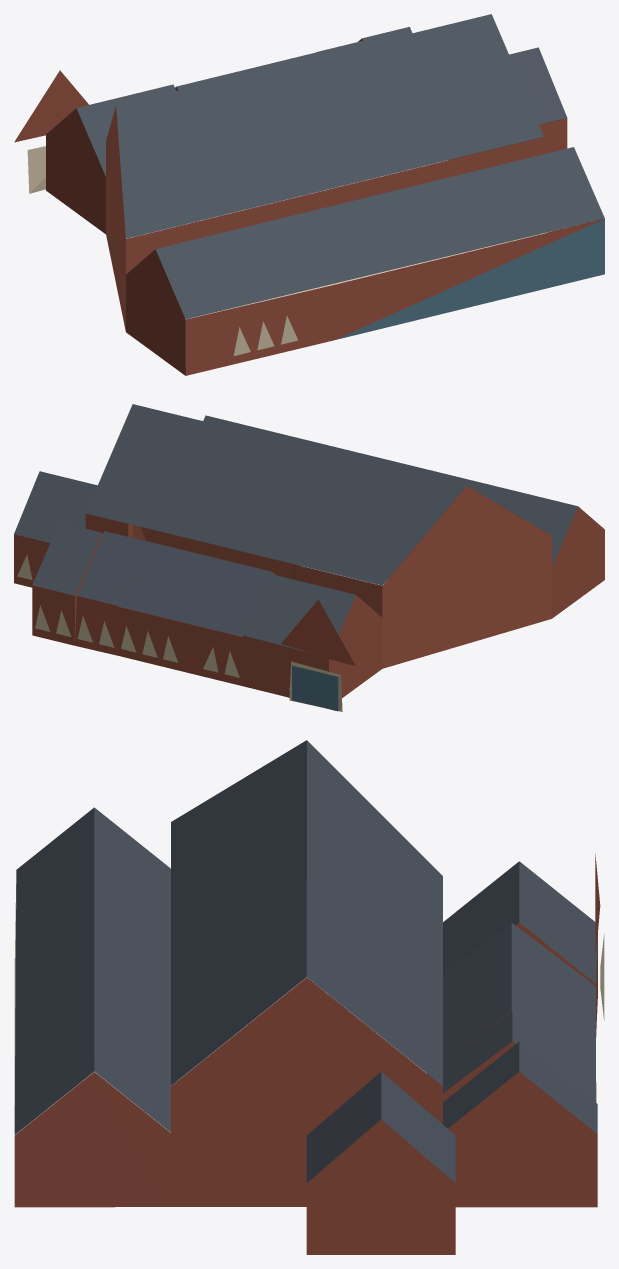
The model's file is de-krakeling.lod2.glb.
The picture shows the model from 3 angles, top to bottom: view 1: azimuth 30°, elevation 25°; view 2: azimuth 150°, elevation 25°; view 3: azimuth 270°, elevation 25°; orthographic projection. The views are drawn at different scales.
Parts seen in each view (by area): view 1: lod2; view 2: lod2; view 3: lod2.
Part boxes in pixels (x1,y1,x2,y2): lod2: [14, 14, 604, 375]; lod2: [14, 404, 604, 711]; lod2: [14, 740, 604, 1254].
Size of the model in its own units: 52.11 by 17.91 by 41.72.
